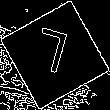L_S: (33, 27, 77, 83)
